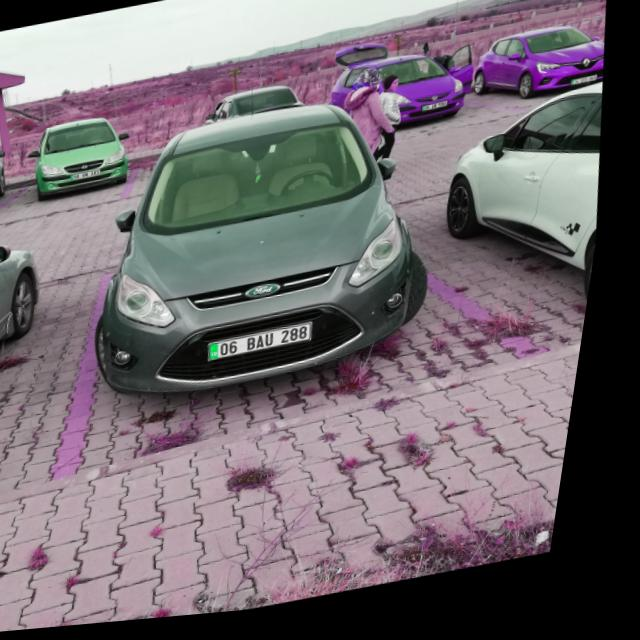license_plate: (218, 329, 324, 366)
